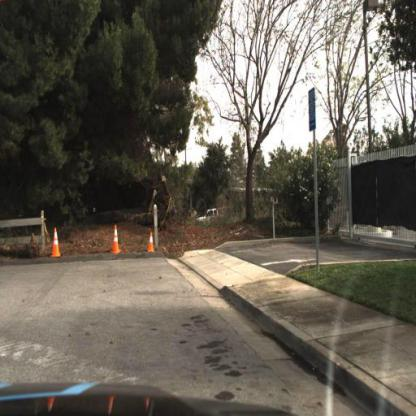truck: (196, 208, 231, 231)
